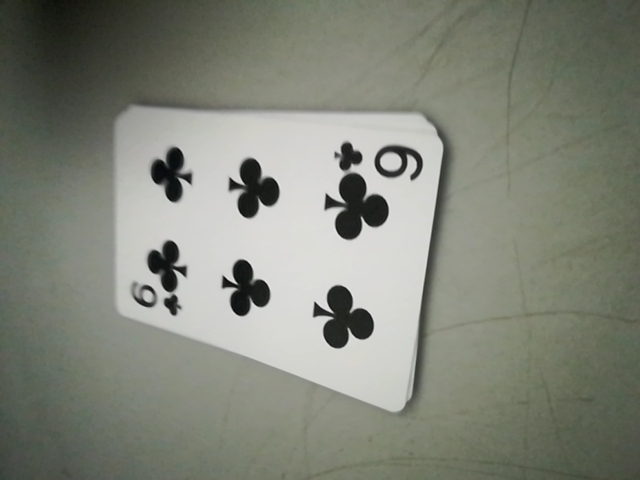mh 6: (338, 136, 428, 181), (123, 281, 183, 323)
